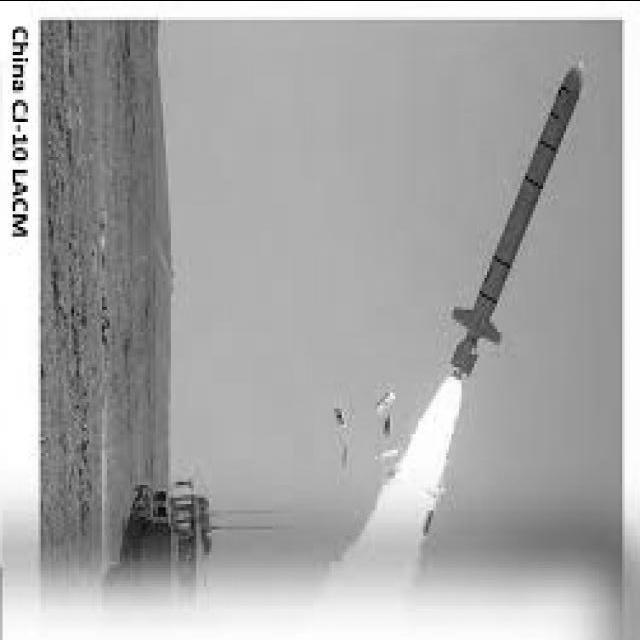missile: (441, 51, 592, 389)
